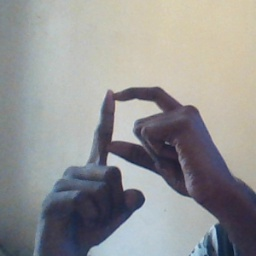D: (68, 80, 200, 205)
